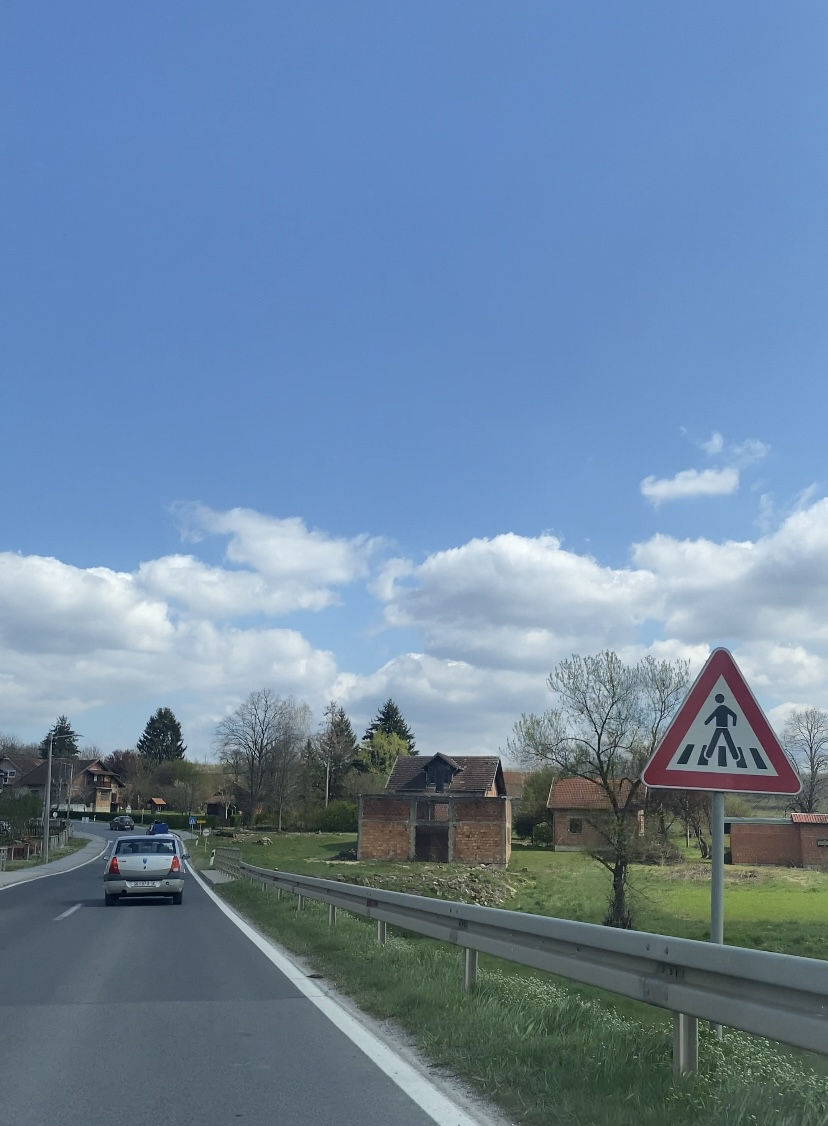Približavanje pješačkom prijelazu: (641, 647, 802, 795)
